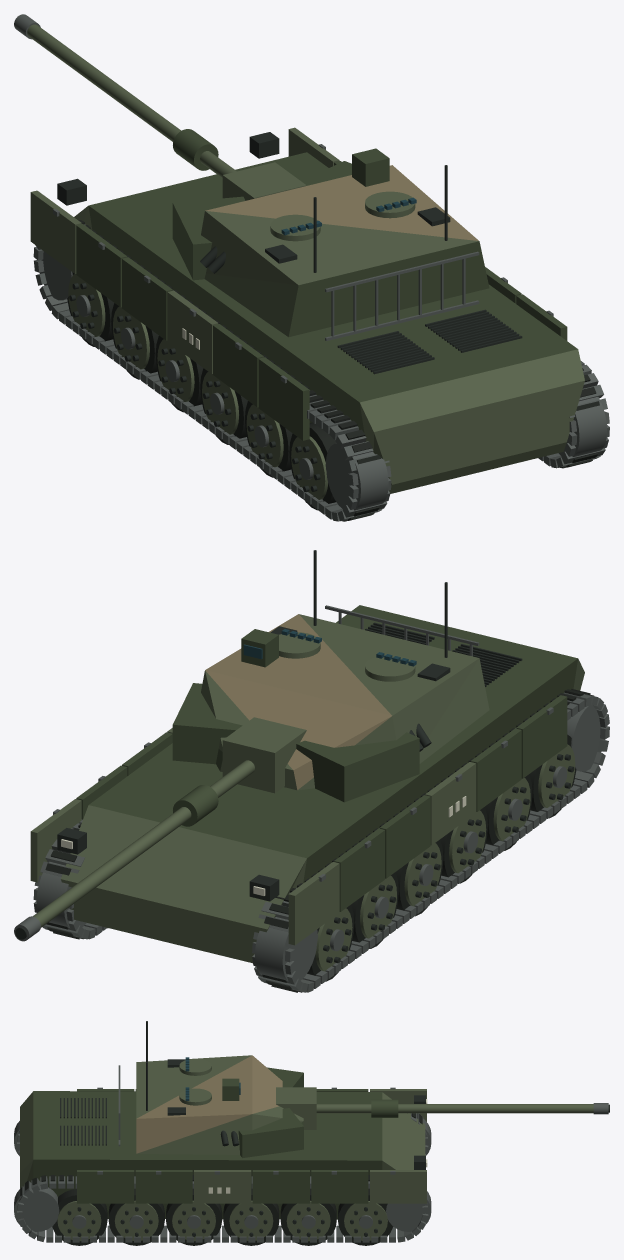
The model's file is k2-exhibit.glb.
The picture shows the model from 3 angles, top to bottom: view 1: azimuth 30°, elevation 25°; view 2: azimuth 150°, elevation 25°; view 3: azimuth 270°, elevation 25°; orthographic projection. The views are drawn at different scales.
Parts seen in each view (by area): view 1: Hull, Turret, Track_L, Gun, Track_R, Wheel_-1_5, Wheel_-1_1, Wheel_-1_3, Wheel_-1_2, Wheel_-1_4, Wheel_-1_0; view 2: Hull, Turret, Track_L, Gun, Track_R, Wheel_-1_2, Wheel_-1_4, Wheel_-1_1, Wheel_-1_3, Wheel_-1_5, Wheel_-1_0; view 3: Hull, Turret, Track_R, Gun, Wheel_1_5, Wheel_1_3, Wheel_1_1, Wheel_1_2, Wheel_1_4, Wheel_1_0, Track_L.
Boxes of the visible parts, x1,y1,x2,y2 form: Hull: [30, 127, 584, 493]; Turret: [172, 148, 489, 340]; Track_L: [33, 218, 391, 521]; Gun: [14, 14, 306, 200]; Track_R: [538, 361, 609, 468]; Wheel_-1_5: [289, 422, 336, 510]; Wheel_-1_1: [111, 303, 158, 379]; Wheel_-1_3: [200, 368, 247, 444]; Wheel_-1_2: [155, 336, 203, 412]; Wheel_-1_4: [245, 401, 292, 477]; Wheel_-1_0: [67, 272, 114, 346]; Hull: [30, 605, 584, 963]; Turret: [172, 550, 489, 802]; Track_L: [252, 689, 609, 992]; Gun: [14, 717, 306, 941]; Track_R: [33, 819, 106, 939]; Wheel_-1_2: [395, 839, 443, 916]; Wheel_-1_4: [485, 774, 532, 850]; Wheel_-1_1: [351, 872, 398, 948]; Wheel_-1_3: [440, 807, 487, 883]; Wheel_-1_5: [529, 734, 576, 818]; Wheel_-1_0: [307, 905, 354, 981]; Hull: [20, 1087, 427, 1219]; Turret: [118, 1021, 303, 1158]; Track_R: [14, 1175, 431, 1242]; Gun: [276, 1087, 609, 1129]; Wheel_1_5: [52, 1189, 107, 1245]; Wheel_1_3: [166, 1188, 222, 1245]; Wheel_1_1: [280, 1189, 336, 1245]; Wheel_1_2: [223, 1188, 279, 1245]; Wheel_1_4: [108, 1189, 164, 1245]; Wheel_1_0: [338, 1189, 393, 1245]; Track_L: [14, 1113, 431, 1156].
Size of the model in its own units: 3.69 by 3.38 by 11.02.
